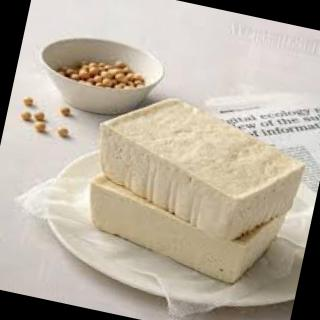Tahu: (72, 81, 310, 300)
